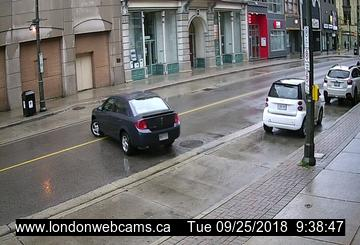Car: (90, 91, 186, 157), (261, 76, 325, 139), (322, 60, 360, 105)
